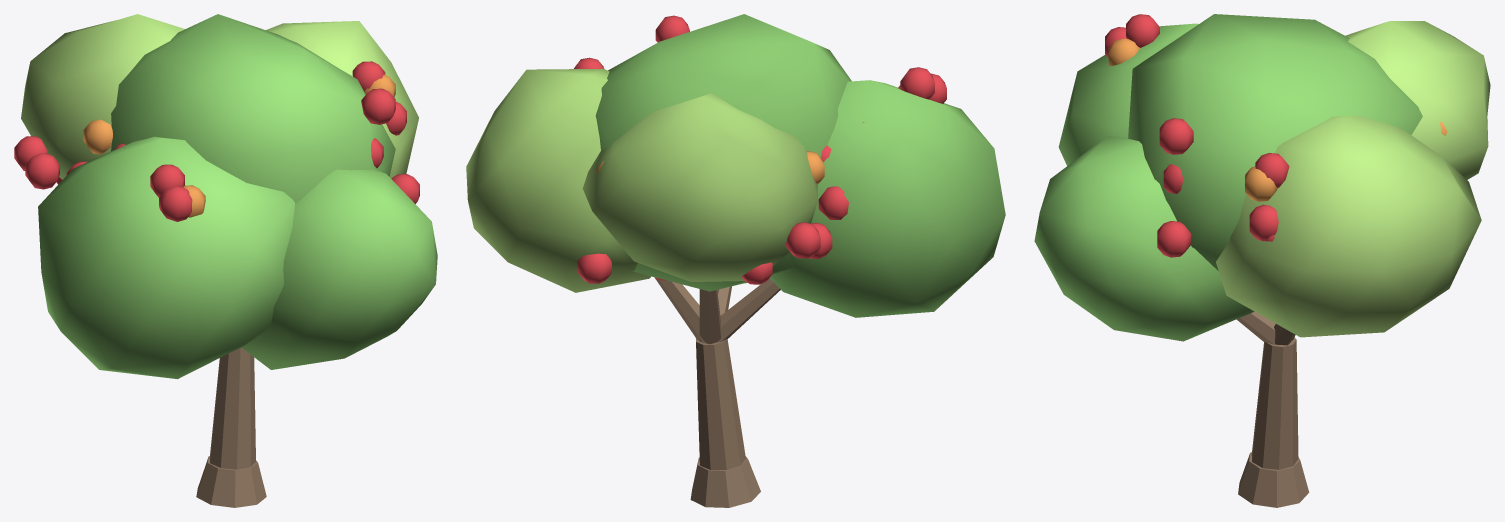
File: tree_apple.glb
3 views of the same model, side by side, from view 1: azimuth 30°, elevation 25°; view 2: azimuth 150°, elevation 25°; view 3: azimuth 270°, elevation 25° (orthographic).
Visible parts, largest first — view 1: apple_apple_leaf, apple_apple_leaf_light, apple_trunk_brown, apple_apple_red, apple_apple_blush; view 2: apple_apple_leaf, apple_apple_leaf_light, apple_trunk_brown, apple_apple_red; view 3: apple_apple_leaf, apple_apple_leaf_light, apple_trunk_brown, apple_apple_red, apple_apple_blush.
Boxes of the visible parts, x1,y1,x2,y2 form: apple_apple_leaf: (38,14,437,379); apple_apple_leaf_light: (21,14,418,179); apple_trunk_brown: (196,347,266,507); apple_apple_red: (14,61,419,221); apple_apple_blush: (83,74,395,217); apple_apple_leaf: (595,14,1005,317); apple_apple_leaf_light: (466,68,817,292); apple_trunk_brown: (654,277,780,507); apple_apple_red: (574,15,946,284); apple_apple_leaf: (1034,14,1422,341); apple_apple_leaf_light: (1216,21,1490,337); apple_trunk_brown: (1236,311,1309,507); apple_apple_red: (1105,14,1289,257); apple_apple_blush: (1108,38,1447,201).
Size of the model in its own units: 4.07 by 4.12 by 3.75.
